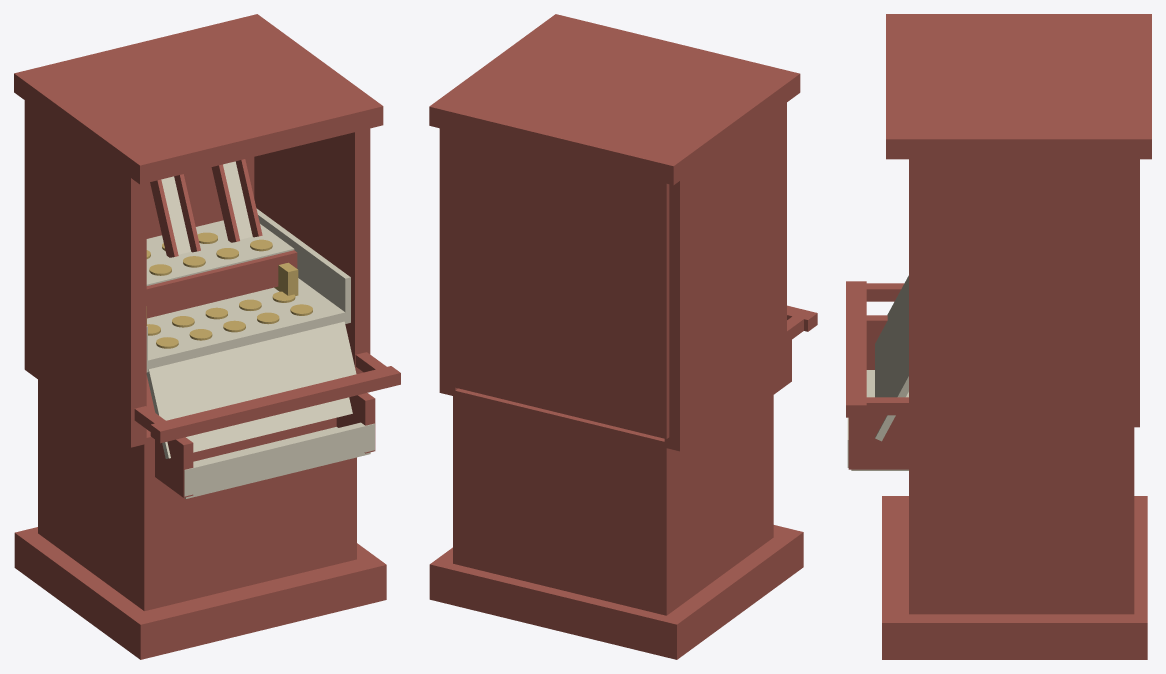
3 renders of one model, left to right at view 1: azimuth 30°, elevation 25°; view 2: azimuth 150°, elevation 25°; view 3: azimuth 270°, elevation 25°, orthographic. The views are drawn at different scales.
Parts seen in each view (by area): view 1: WholeLowerMachinePedestal, WholeCaseRoof, LeftWholeObservationCaseSide, WholeGroundFootPlinth, WholeFrontDropToPocketChute, RightWholeObservationCaseSide, WholeLowerFixedCollectingDeck, WholeReceivingPocketFrontLip, WholeFrontOutletHood, WholeFixedFrontPusherFace, WholeRaisedFixedPusherTray, RightWholeLowerDeckReturn (+11 smaller); view 2: WholeCaseBack, WholeLowerMachinePedestal, WholeCaseRoof, LeftWholeObservationCaseSide, WholeGroundFootPlinth, RightWholeObservationCaseSide; view 3: RightWholeObservationCaseSide, WholeCaseRoof, WholeLowerMachinePedestal, WholeGroundFootPlinth, WholeFrontDropToPocketChute, RightWholeReceivingPocketCheek, WholeFrontOutletHood, WholeCaseBack, RightWholeOutletHoodSupportArm, LeftWholeReceivingPocketCheek, LeftWholeOutletHoodSupportArm.
Boxes of the visible parts, x1,y1,x2,y2 form: WholeLowerMachinePedestal: [38, 375, 356, 611]; WholeCaseRoof: [14, 14, 383, 184]; LeftWholeObservationCaseSide: [24, 100, 146, 447]; WholeGroundFootPlinth: [14, 527, 386, 659]; WholeFrontDropToPocketChute: [146, 321, 356, 458]; RightWholeObservationCaseSide: [254, 128, 370, 373]; WholeLowerFixedCollectingDeck: [146, 278, 350, 372]; WholeReceivingPocketFrontLip: [184, 422, 374, 496]; WholeFrontOutletHood: [150, 366, 400, 443]; WholeFixedFrontPusherFace: [146, 250, 297, 318]; WholeRaisedFixedPusherTray: [146, 220, 294, 285]; RightWholeLowerDeckReturn: [256, 208, 350, 313]; WholeCaseBack: [447, 130, 669, 438]; WholeLowerMachinePedestal: [453, 383, 773, 615]; WholeCaseRoof: [429, 14, 800, 185]; LeftWholeObservationCaseSide: [664, 102, 786, 451]; WholeGroundFootPlinth: [429, 525, 803, 659]; RightWholeObservationCaseSide: [439, 128, 457, 396]; RightWholeObservationCaseSide: [909, 159, 1134, 444]; WholeCaseRoof: [886, 14, 1151, 159]; WholeLowerMachinePedestal: [909, 445, 1134, 614]; WholeGroundFootPlinth: [882, 496, 1147, 659]; WholeFrontDropToPocketChute: [875, 275, 908, 441]; RightWholeReceivingPocketCheek: [848, 415, 908, 469]; WholeFrontOutletHood: [846, 281, 866, 417]; WholeCaseBack: [1134, 159, 1139, 427]; RightWholeOutletHoodSupportArm: [849, 397, 908, 415]; LeftWholeReceivingPocketCheek: [866, 315, 887, 369]; LeftWholeOutletHoodSupportArm: [849, 283, 904, 301].
Size of the model in its own units: 0.88 by 1.68 by 0.897.
